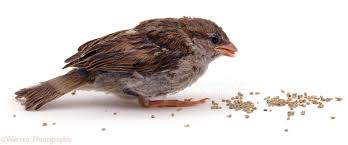hsparrow: (8, 15, 238, 109)
